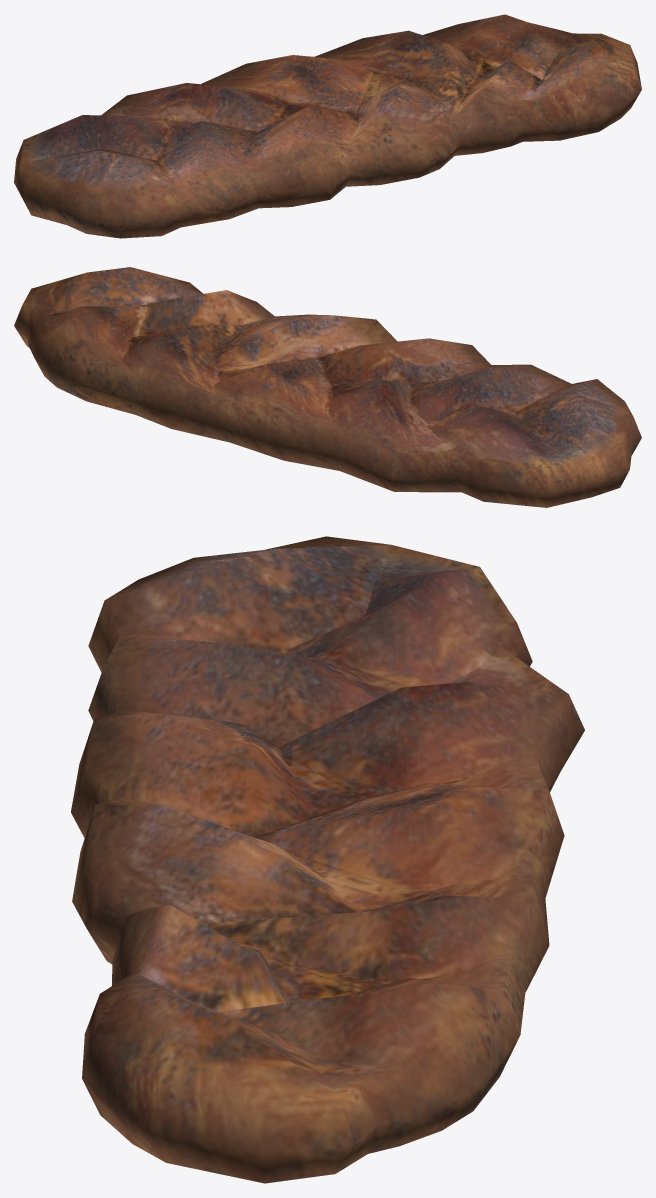
Rendered from BreadPlait.fbx.
3 renders of one model, top to bottom at view 1: azimuth 30°, elevation 25°; view 2: azimuth 150°, elevation 25°; view 3: azimuth 270°, elevation 25°, orthographic. The views are drawn at different scales.
Visible parts, largest first — view 1: BreadPlait; view 2: BreadPlait; view 3: BreadPlait.
Boxes of the visible parts, x1,y1,x2,y2 form: BreadPlait: (14, 14, 641, 238); BreadPlait: (14, 267, 641, 507); BreadPlait: (71, 536, 584, 1183).
Bounding box in the file's own units: 0.5701 × 0.0592 × 0.2116.
